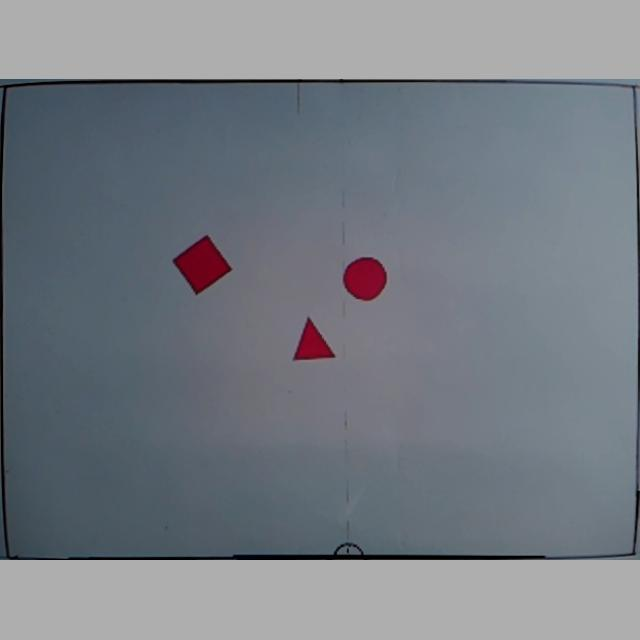pinkCircle: (342, 257, 388, 303)
pinkSquare: (171, 235, 233, 298)
pinkTriangle: (290, 316, 338, 364)
